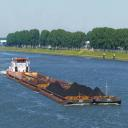tugboat: (7, 57, 35, 86)
